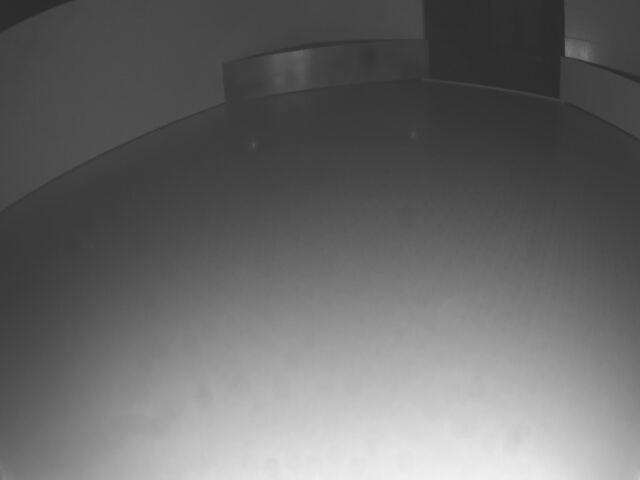Green: (222, 41, 429, 105)
Red: (561, 57, 640, 143)
